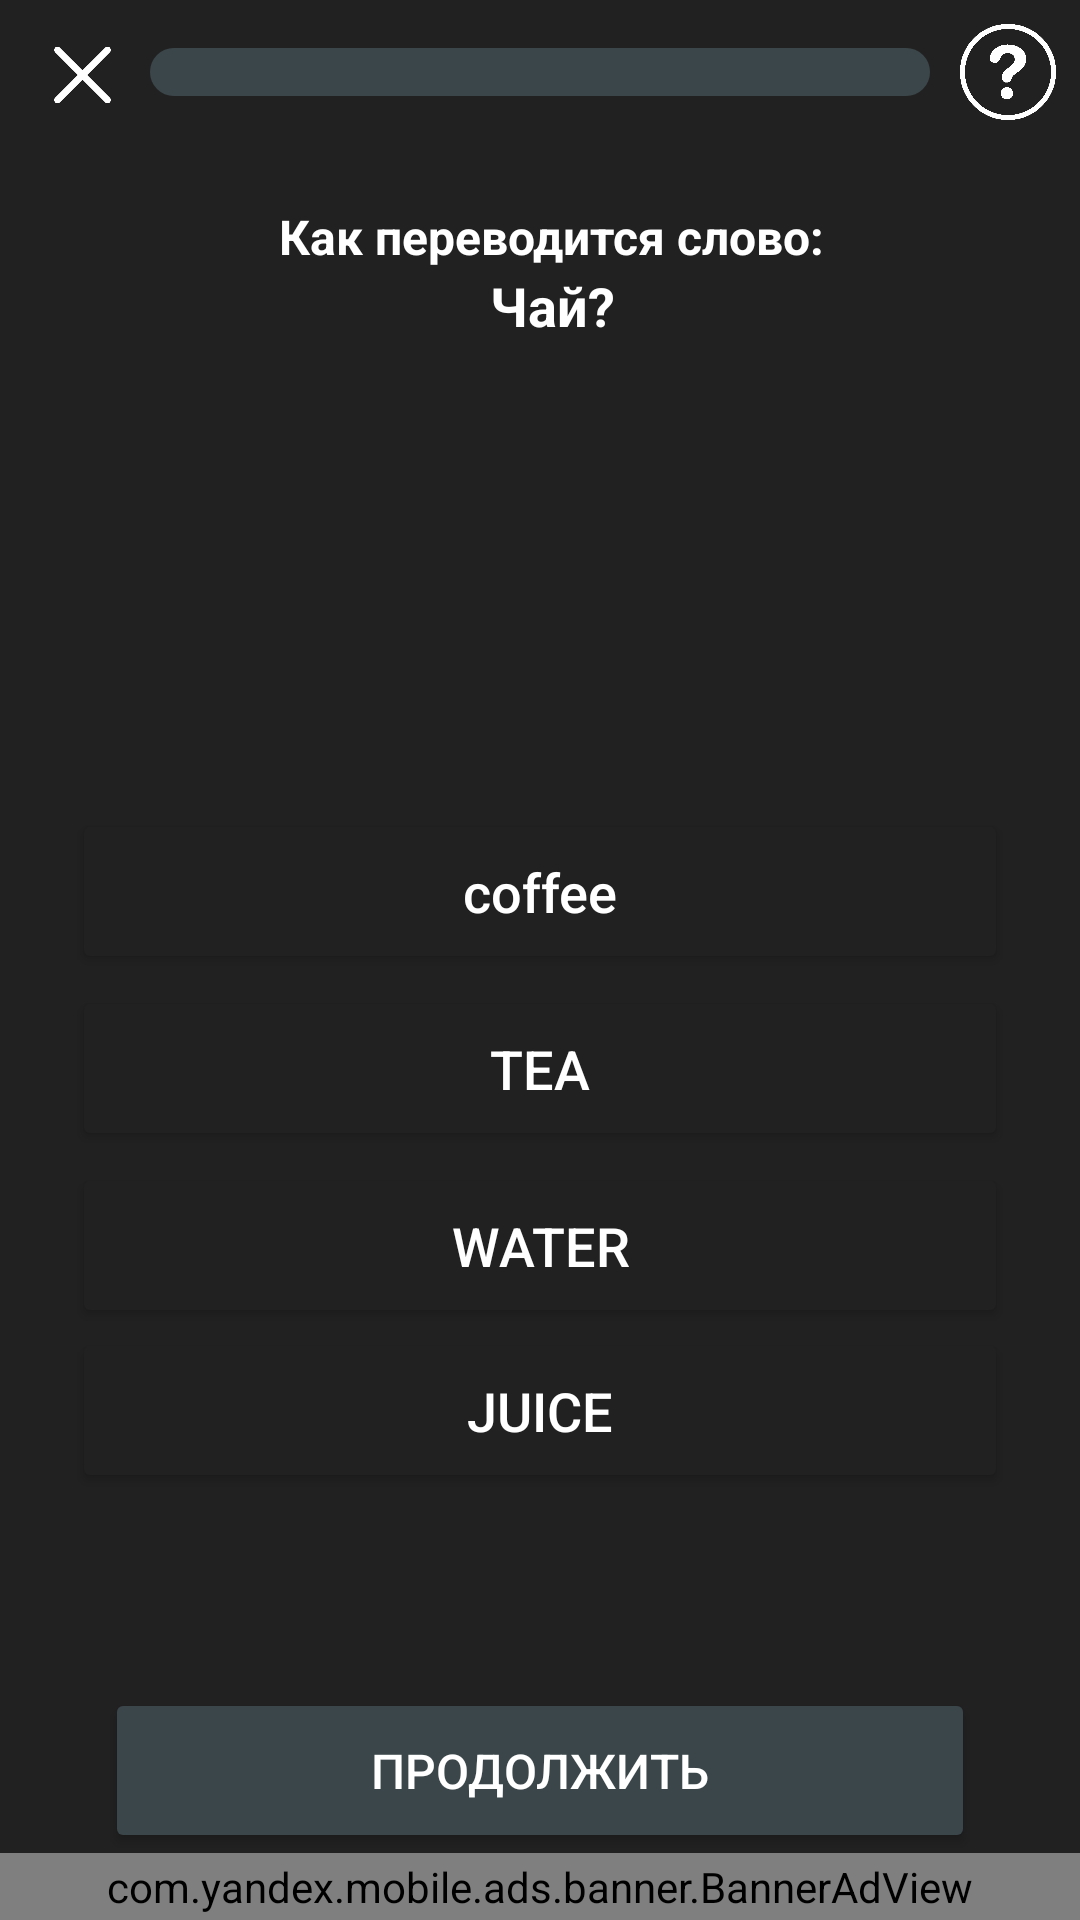

Where icons sit on this 1080px x 1920px app screen, as (x1, y1, x2, y2):
krestik: (54, 47, 111, 103)
queshn: (960, 24, 1056, 120)
